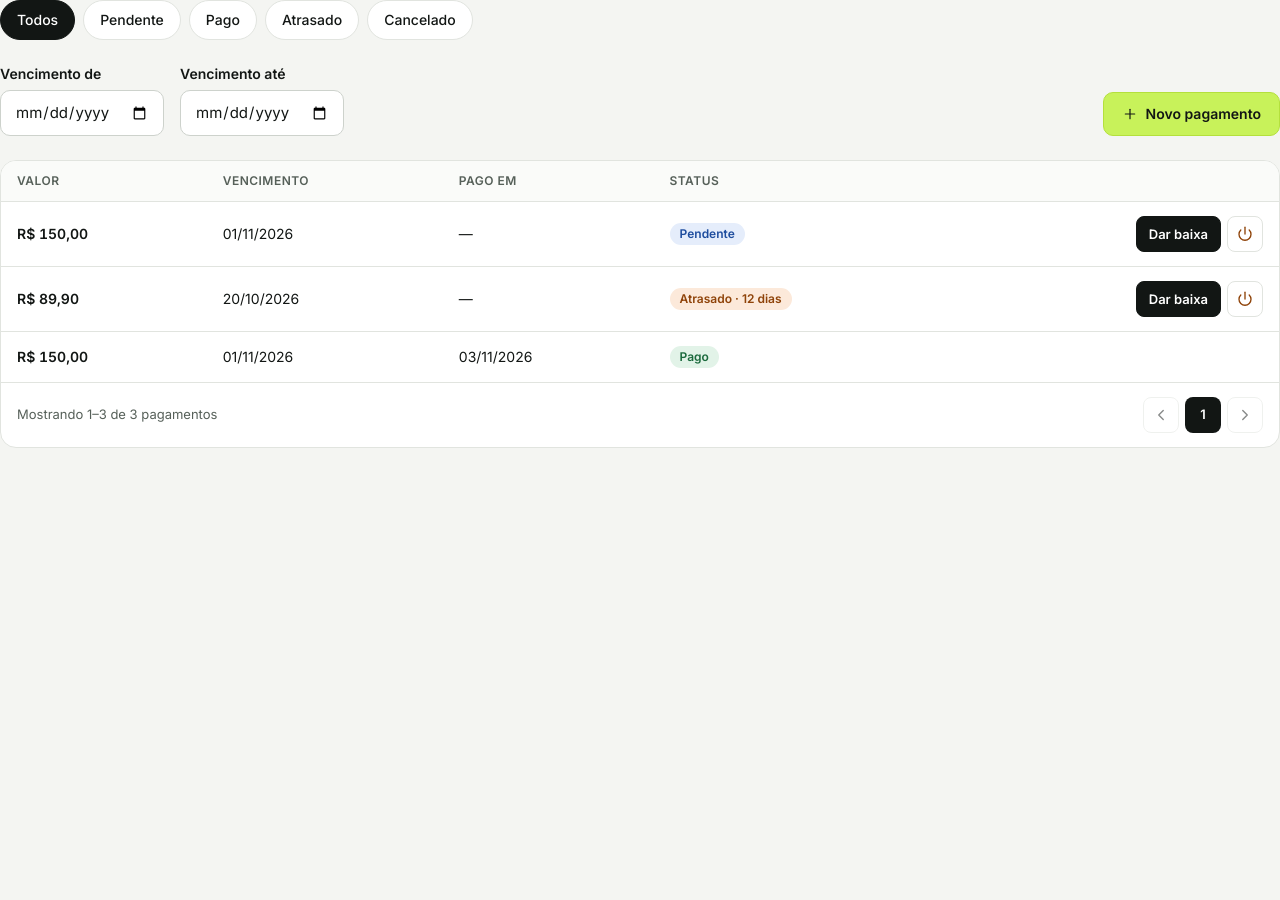
PagamentosDoMembro › cancela uma linha em aberto depois de confirmar
Expected: the text "Atrasado · 12 dias" is shown, [670,288,792,310]
Click the button named "Cancelar pagamento".
click(1245, 234)  # box [1227,216,1263,252]
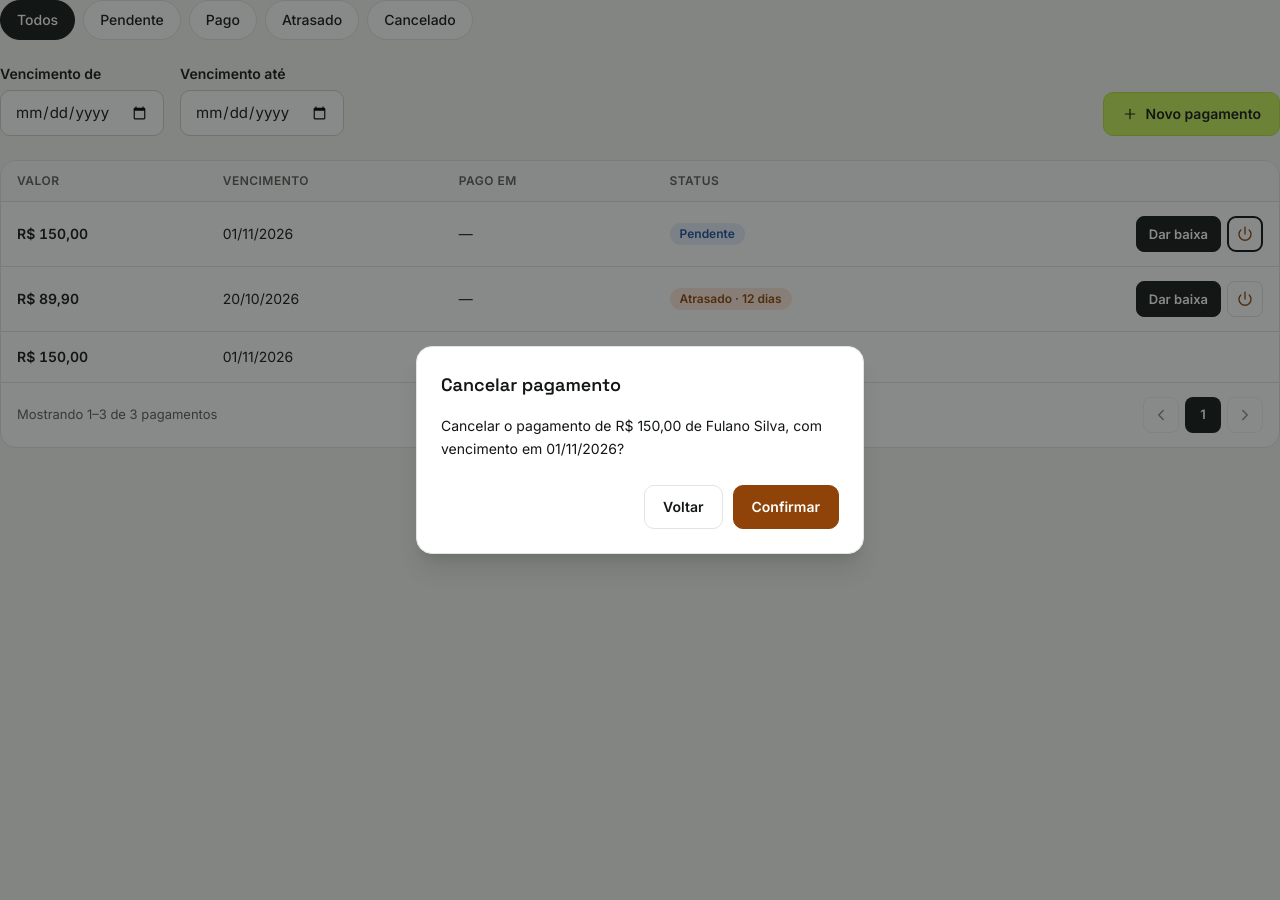
Click the button "Confirmar".
click(786, 507)  # box [732,485,839,529]
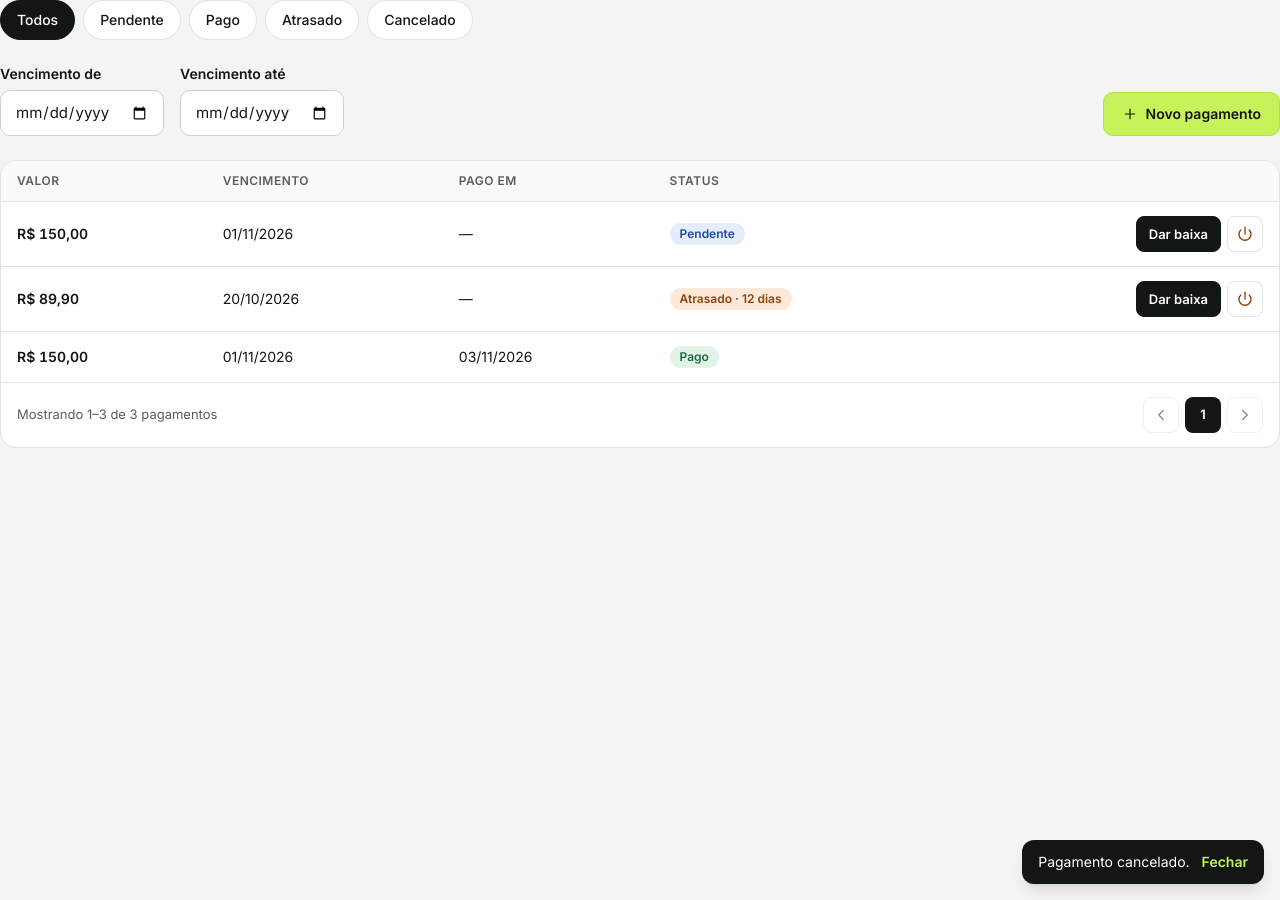
Expected: the text "Pagamento cancelado." is shown, [1038,852,1190,872]
